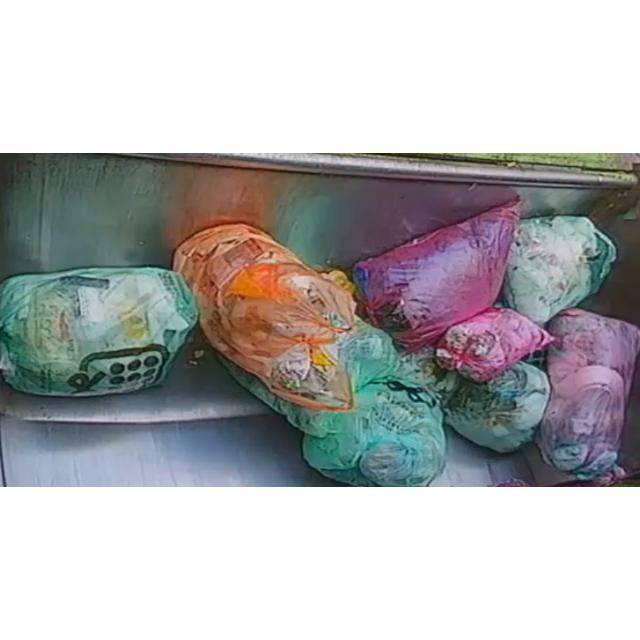general_trashbag: (0, 268, 198, 395), (271, 378, 445, 487), (502, 217, 616, 325), (444, 362, 550, 453)
other_trashbag: (174, 223, 355, 410), (352, 198, 520, 352), (535, 309, 640, 479), (436, 308, 554, 382)
